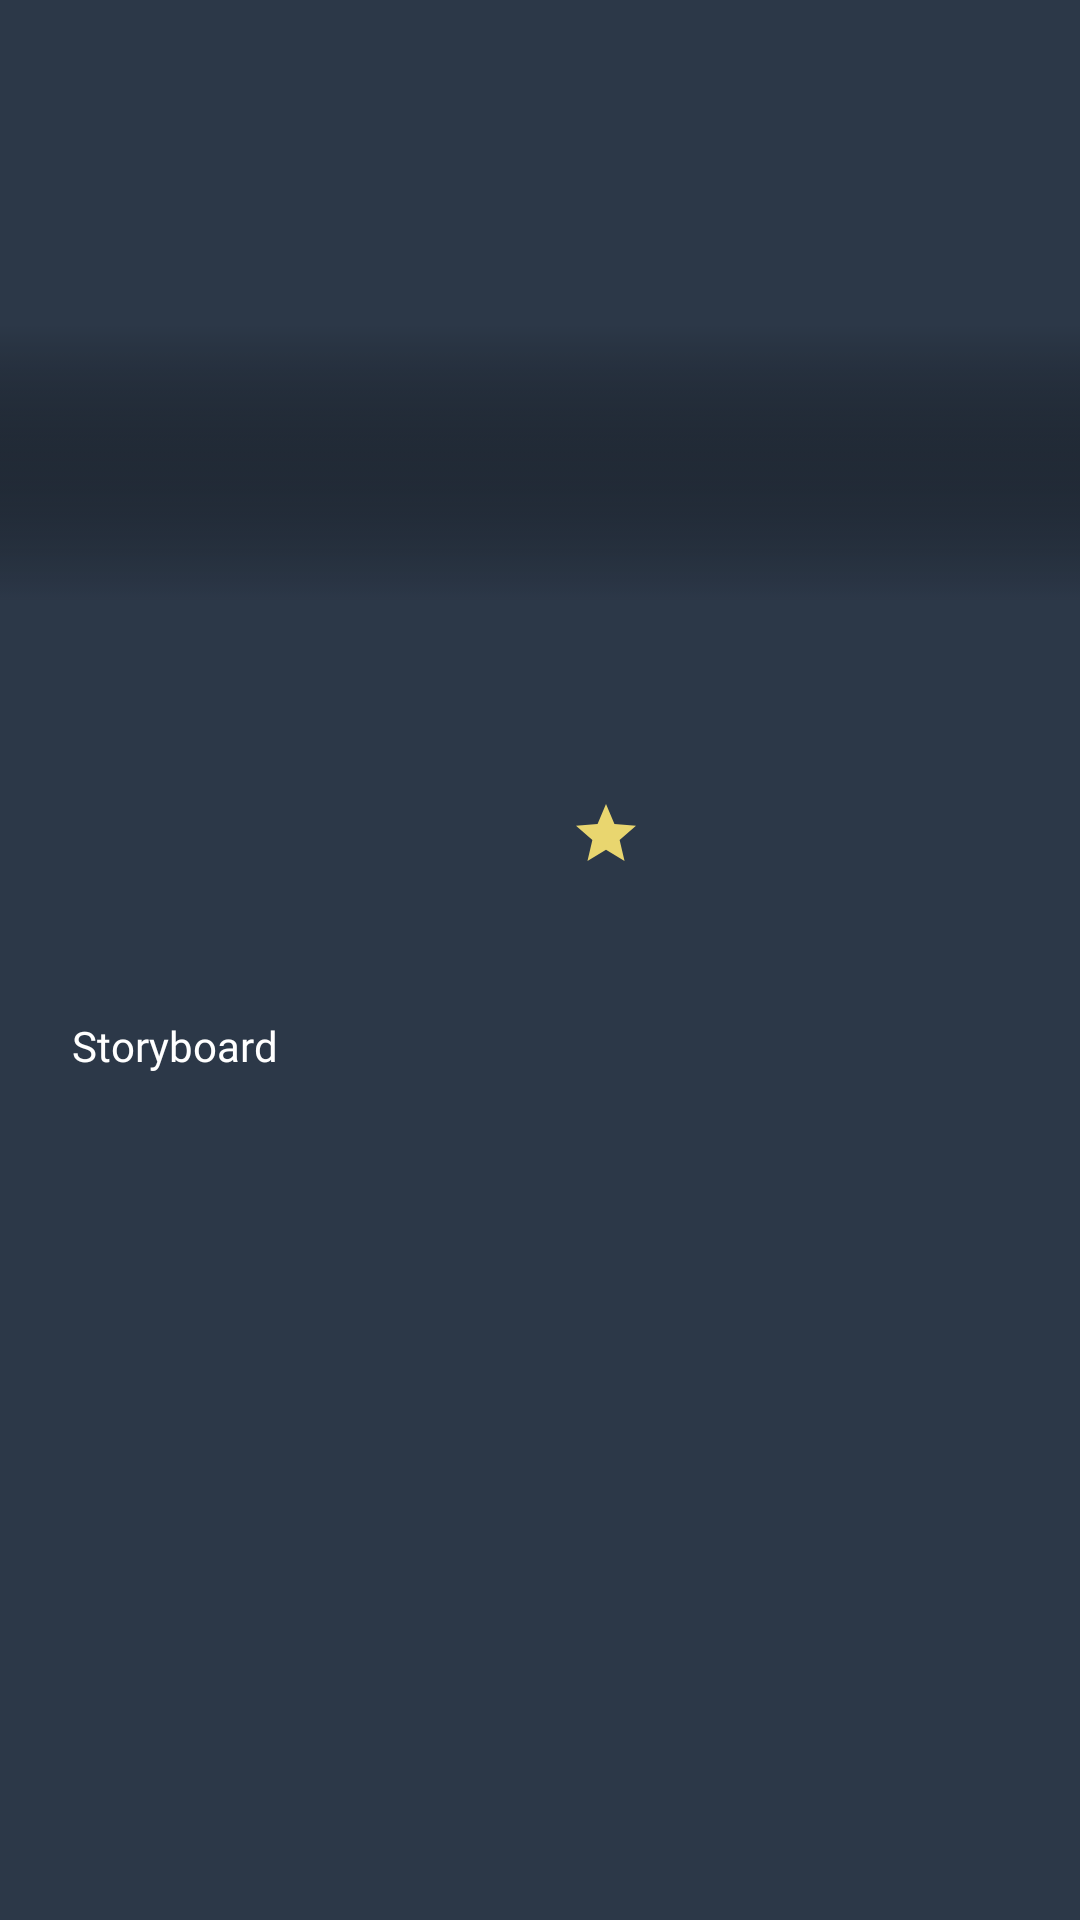

Icon click points for this 1080px×1920px phone screenshot, format (x=x, y=y):
star: (x=606, y=832)
